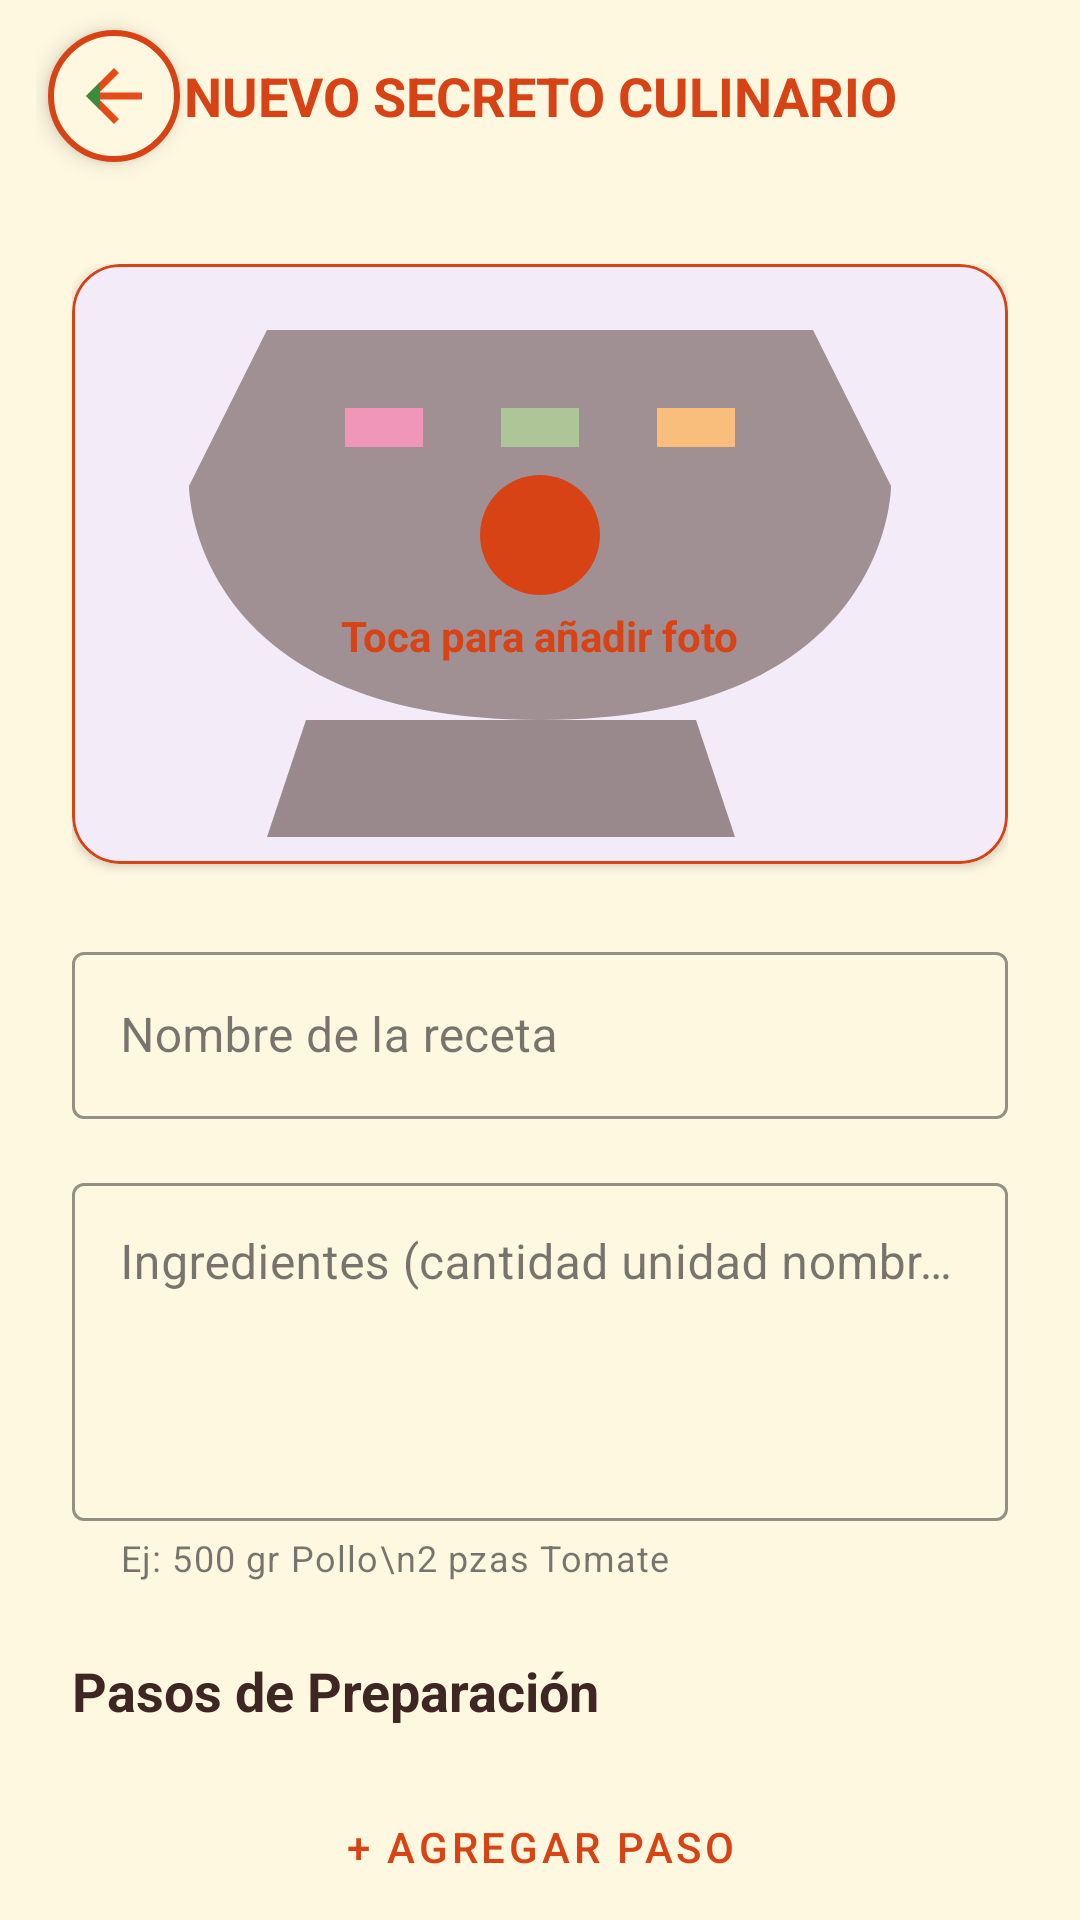

Icons on this 1080 × 1920 Android screen, each with the point to tap as [x,y]:
Regresar: [114,96]
